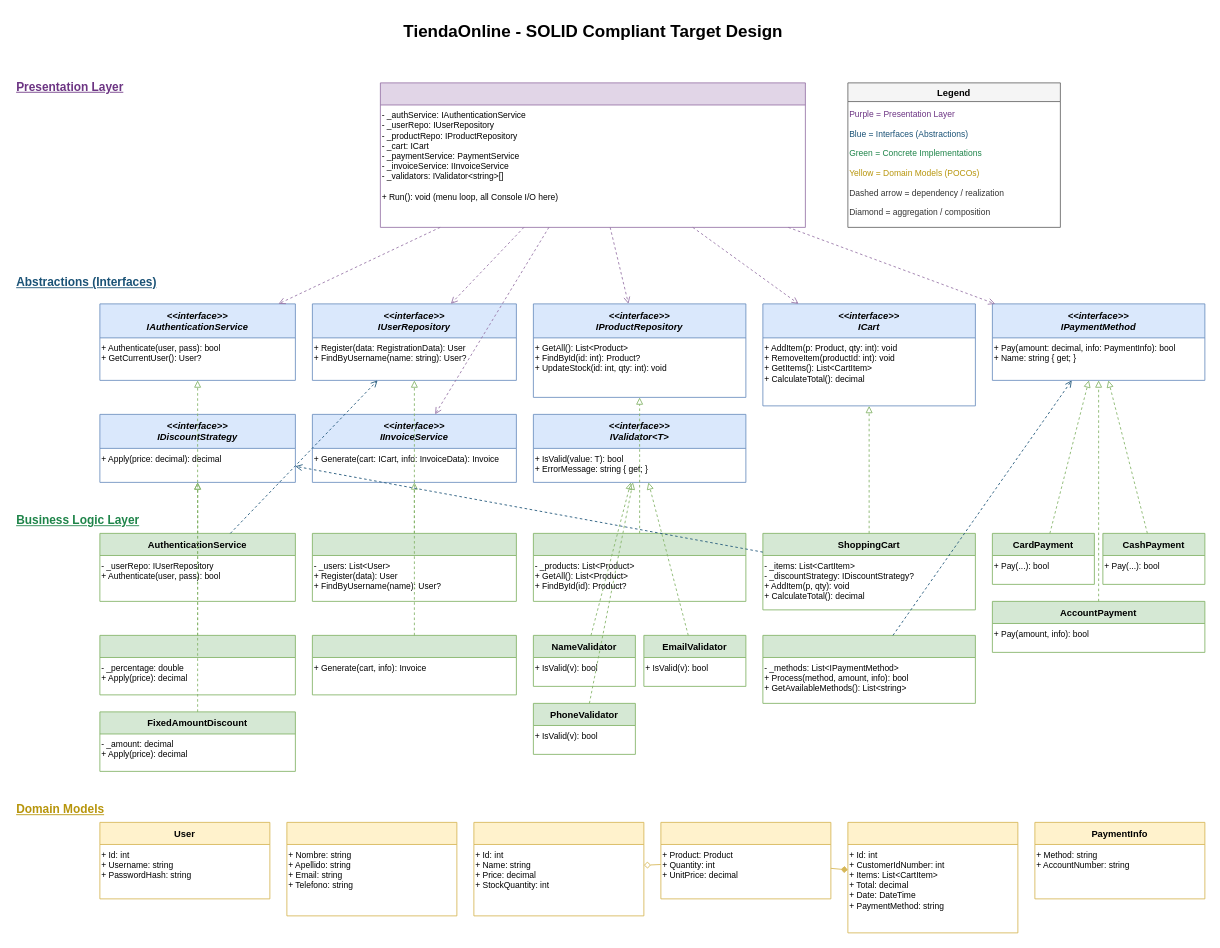
Image size: 1220x948. Some labels were removed from this diagram. Here are the shapes that lost their labels. From the top down, the box of each, then its label:
(380, 82, 805, 227): ConsoleUI
(312, 533, 516, 601): InMemoryUserRepository
(533, 533, 746, 601): InMemoryProductRepository
(99, 635, 295, 695): PercentageDiscount
(312, 635, 516, 695): InvoiceService
(762, 635, 975, 703): PaymentService
(286, 822, 457, 916): RegistrationData
(473, 822, 644, 916): Product
(660, 822, 831, 899): CartItem
(847, 822, 1018, 933): Invoice
